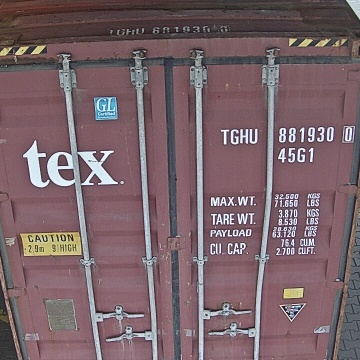serial_id: (221, 125, 353, 144)
